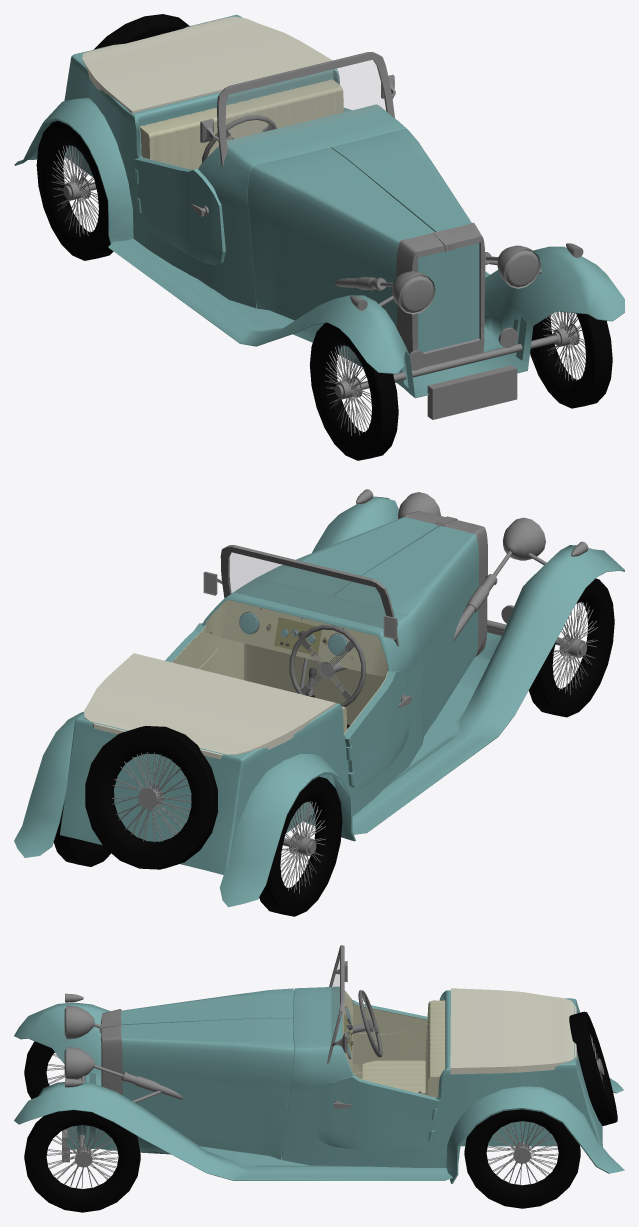
3 renders of one model, top to bottom at view 1: azimuth 30°, elevation 25°; view 2: azimuth 150°, elevation 25°; view 3: azimuth 270°, elevation 25°, orthographic. The views are drawn at different scales.
Parts seen in each view (by area): view 1: pCylinder379; view 2: pCylinder379; view 3: pCylinder379.
Boxes of the visible parts, <box> form: pCylinder379: <box>14,14,624,460</box>; pCylinder379: <box>14,489,624,916</box>; pCylinder379: <box>14,945,624,1212</box>.
Size of the model in its own units: 8.76 by 7.81 by 22.3.
